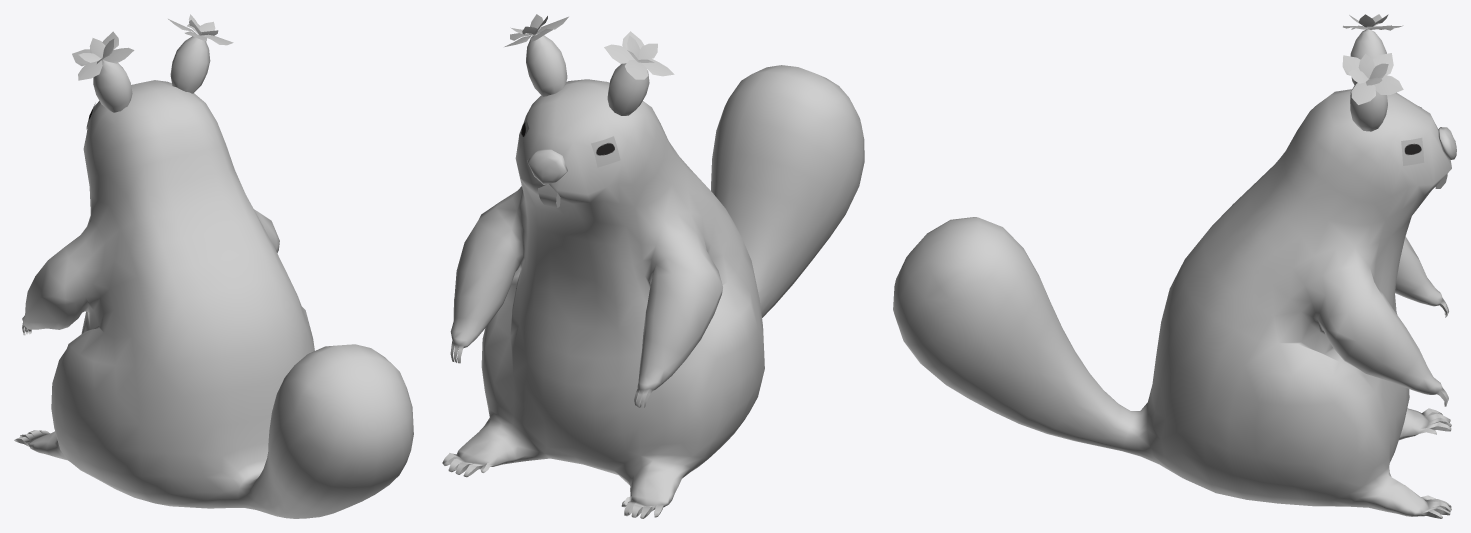
Rendered from mesh_CactusBeaver_04.fbx.
3 views of the same model, side by side, from view 1: azimuth 30°, elevation 25°; view 2: azimuth 150°, elevation 25°; view 3: azimuth 270°, elevation 25° (orthographic). The views are drawn at different scales.
Visible parts, largest first — view 1: body, flowers, ears_R, ears_L; view 2: body, flowers, ears_R, ears_L, nose, Eyes; view 3: body, flowers, ears_R, ears_L.
Boxes of the visible parts, x1,y1,x2,y2 form: body: (14,80,413,518); flowers: (72,14,233,80); ears_R: (170,36,210,93); ears_L: (93,59,132,112); body: (442,65,864,518); flowers: (504,14,674,79); ears_R: (526,33,567,96); ears_L: (607,59,649,115); nose: (527,149,567,184); Eyes: (519,115,620,167); body: (893,89,1451,518); flowers: (1342,14,1403,104); ears_R: (1350,78,1387,131); ears_L: (1350,29,1386,84).
Size of the model in its own units: 3.44 by 5.94 by 6.88.
